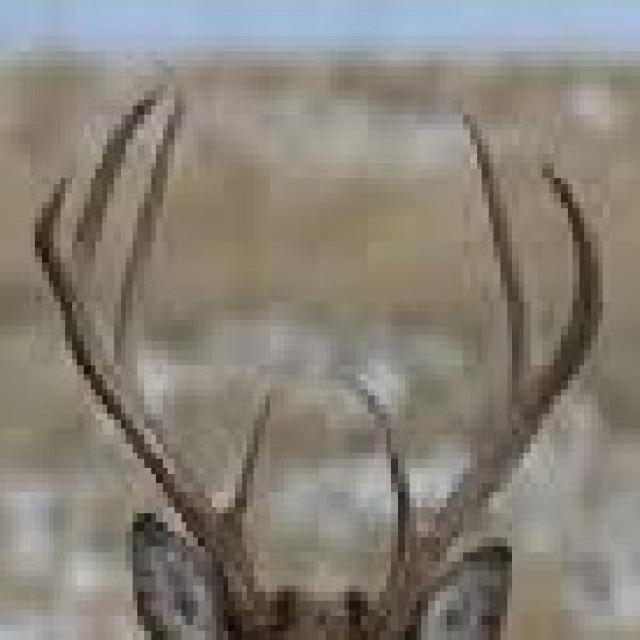L-F: (354, 159, 605, 640)
L-G1: (354, 381, 416, 559)
L-G2: (462, 108, 535, 415)
R-F: (31, 172, 274, 626)
R-G1: (224, 382, 276, 539)
R-G2: (111, 82, 195, 391)
R-G3: (71, 79, 163, 306)
